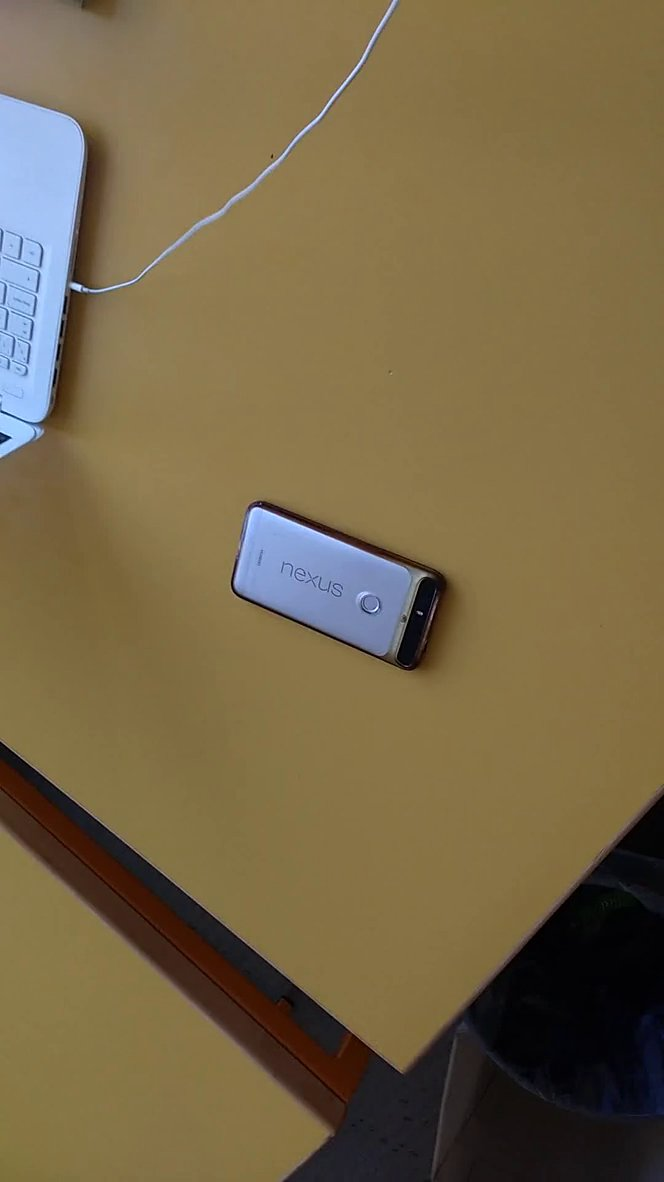phone: (213, 481, 474, 690)
